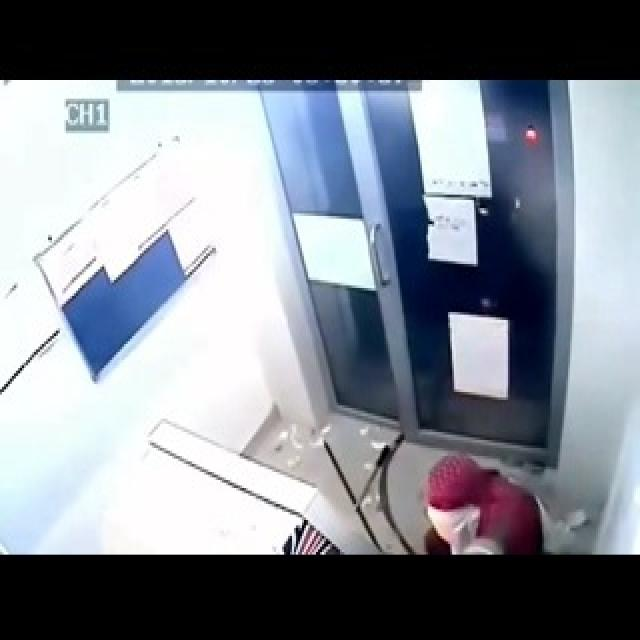thief: (413, 412, 540, 544)
